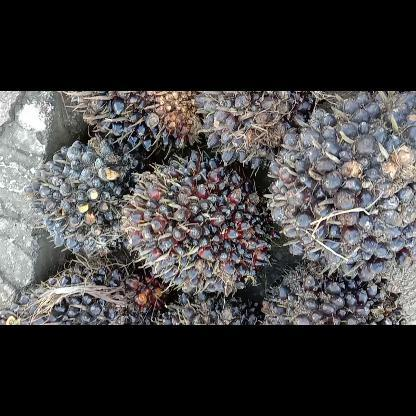TBS mentah: (262, 91, 414, 283), (119, 148, 282, 298), (21, 132, 147, 258), (0, 258, 176, 324), (188, 90, 324, 172), (259, 260, 409, 324), (67, 90, 205, 156)
